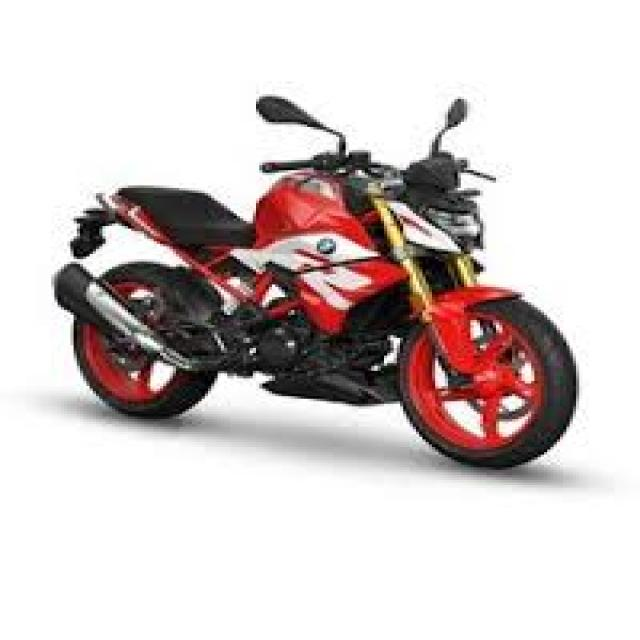Bike: (51, 95, 583, 472)
